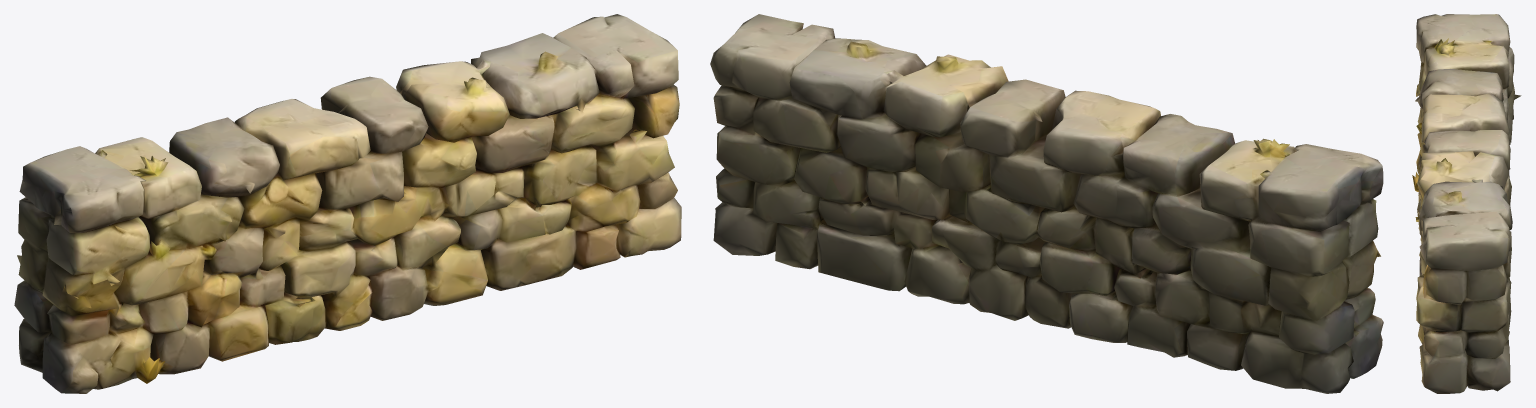
Rendered from stone_wall.glb.
3 renders of one model, left to right at view 1: azimuth 30°, elevation 25°; view 2: azimuth 150°, elevation 25°; view 3: azimuth 270°, elevation 25°, orthographic. The views are drawn at different scales.
Parts seen in each view (by area): view 1: tripo_node_cdea1cba-6e03-4b7f-9dc0-3abe8c072214; view 2: tripo_node_cdea1cba-6e03-4b7f-9dc0-3abe8c072214; view 3: tripo_node_cdea1cba-6e03-4b7f-9dc0-3abe8c072214.
Part boxes in pixels (x1,y1,x2,y2): tripo_node_cdea1cba-6e03-4b7f-9dc0-3abe8c072214: (14, 14, 681, 393); tripo_node_cdea1cba-6e03-4b7f-9dc0-3abe8c072214: (710, 14, 1383, 393); tripo_node_cdea1cba-6e03-4b7f-9dc0-3abe8c072214: (1412, 14, 1521, 393).
Size of the model in its own units: 1 by 0.3254 by 0.1969.
1 material, 1 textured.
